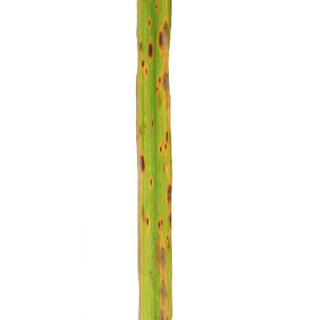bercak-Cokelat: (156, 244, 169, 320), (136, 203, 163, 235), (162, 181, 178, 230), (144, 28, 168, 58), (158, 130, 176, 154), (152, 72, 164, 97), (135, 152, 146, 174), (147, 116, 159, 135), (140, 59, 151, 75), (147, 173, 157, 190), (145, 18, 157, 27), (138, 41, 146, 54), (165, 236, 173, 247), (151, 2, 161, 10)
